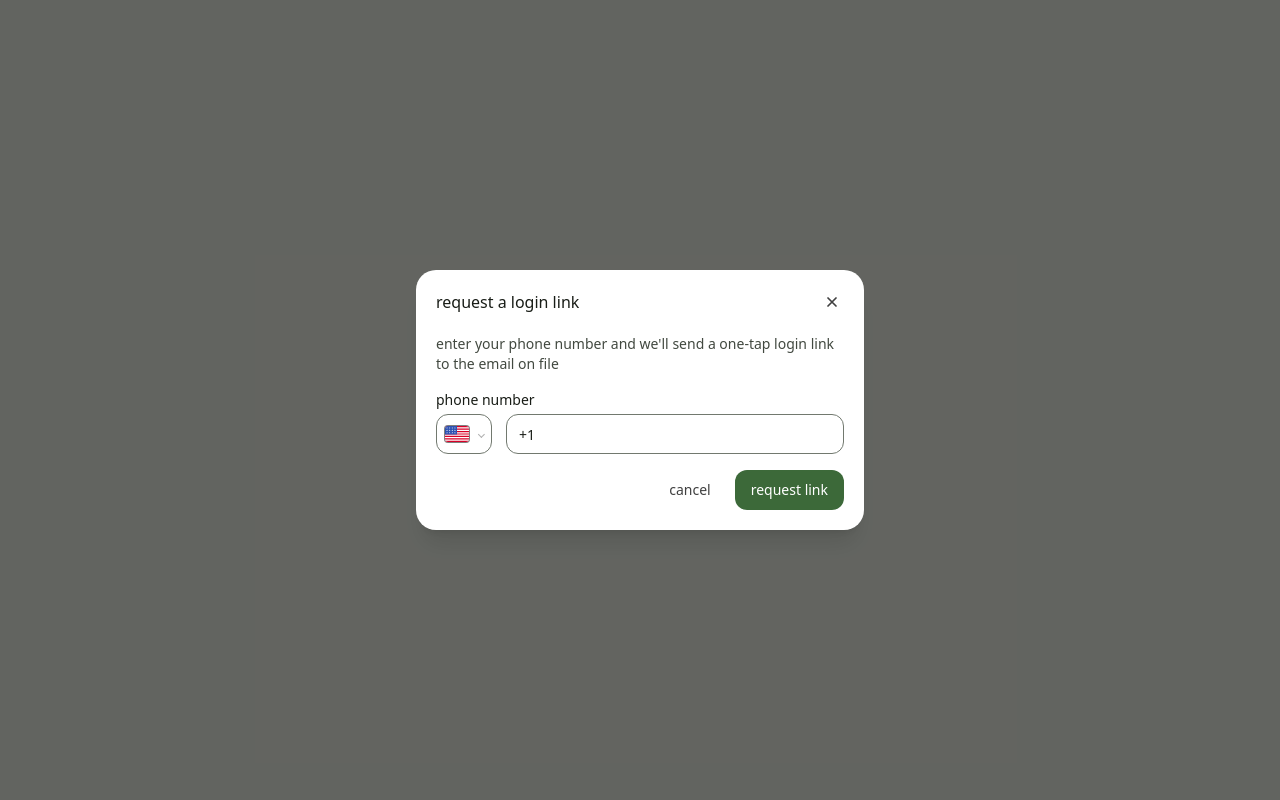
Scenario: RequestLoginLinkDialog › shows admin-follow-up copy when backend reports admin delivery
Step 1. Replace the text in the field labelled "phone number" with "+12025550101" → (675, 434), box [506,414,844,454]
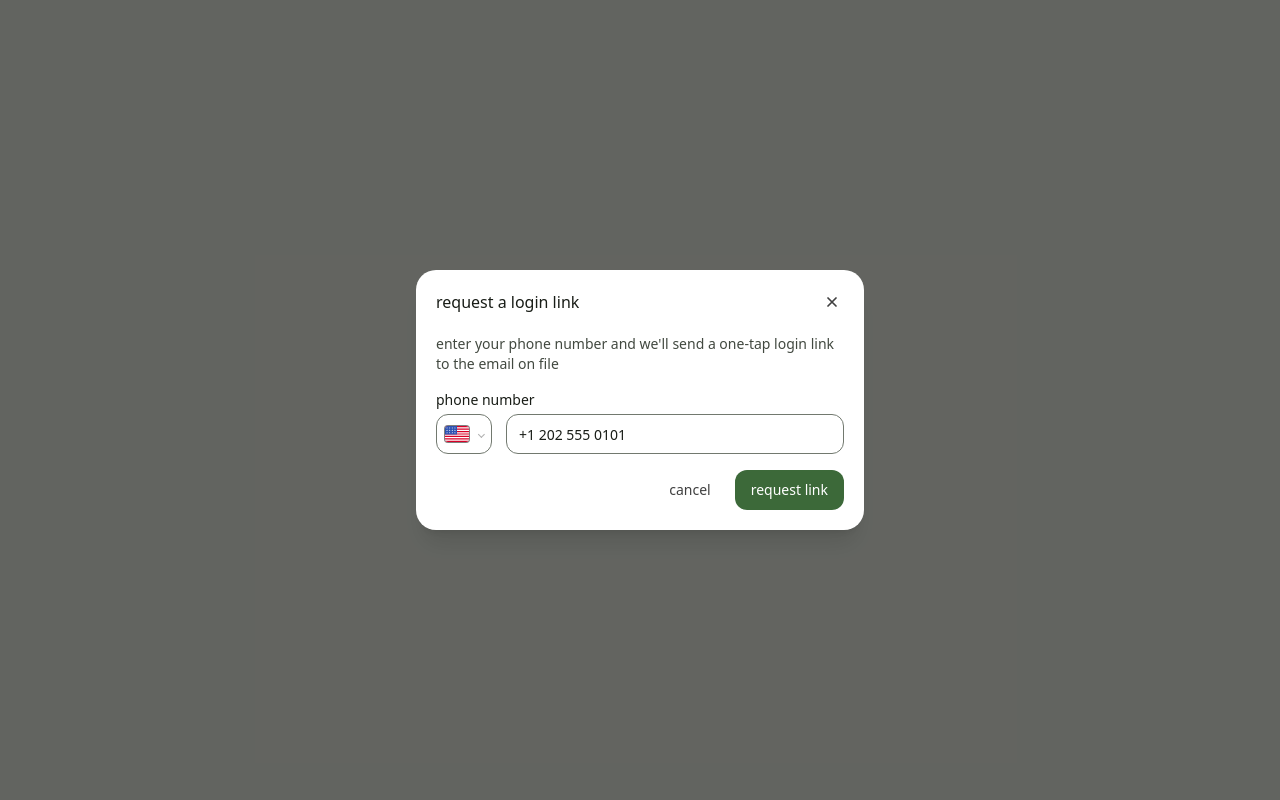
Step 2. Click the button "request link" → (789, 490), box [735,470,844,510]
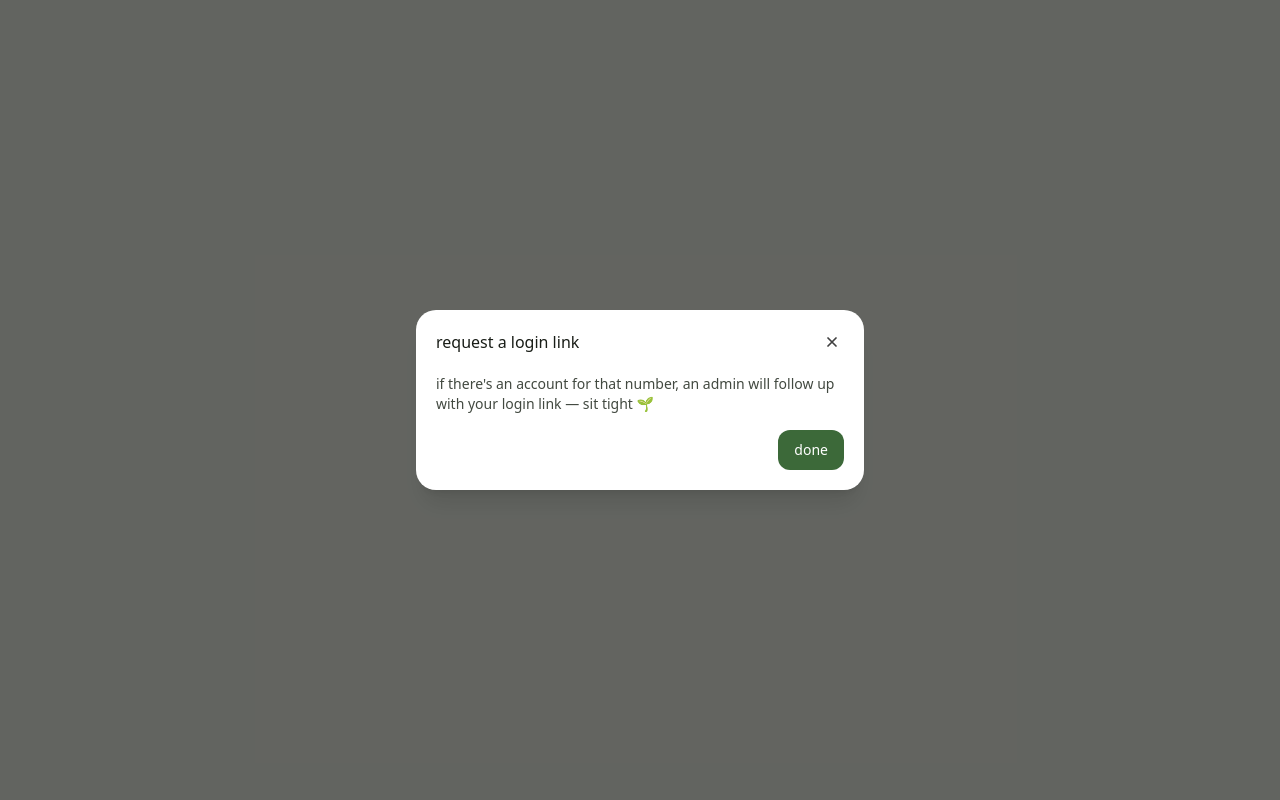
Check: the text "an admin will follow up with your login link" is shown, box [436,374,834,413]
